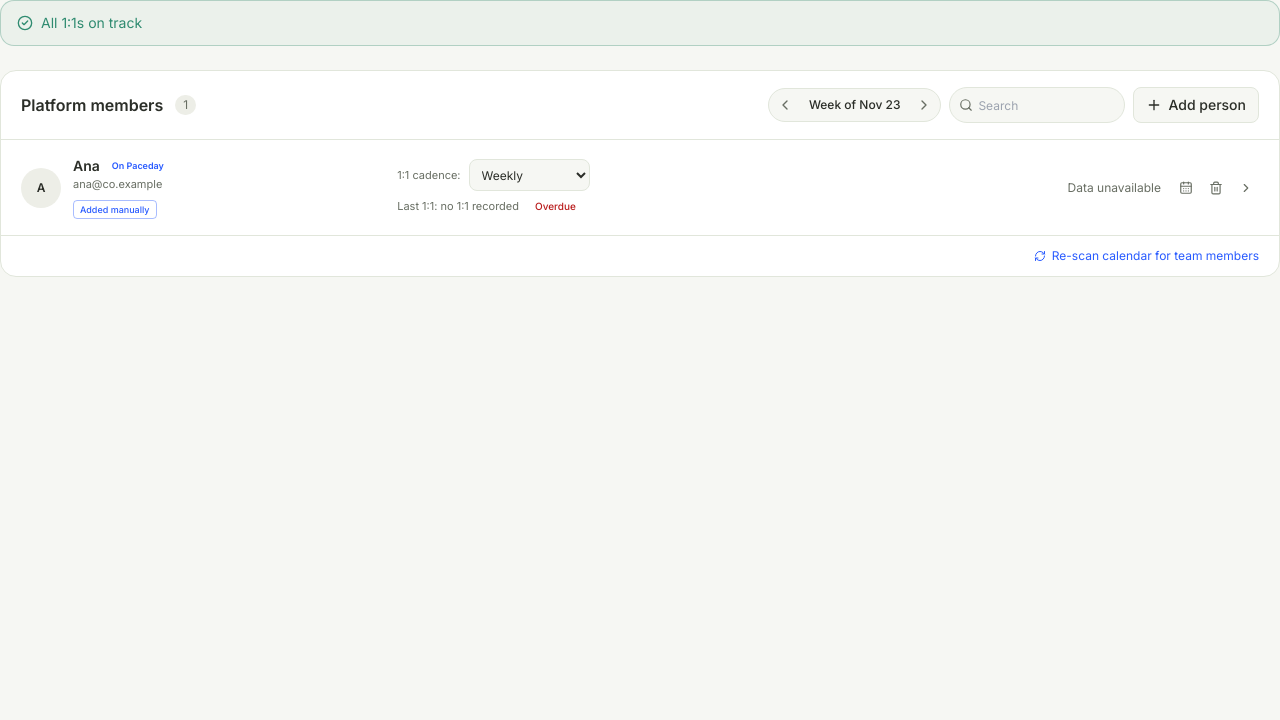
PAC-122 batch 6, manager tab › SF-059: claims no scan state it does not know, then shows the scan answer's time
Check: the text "last scan" is not shown
Step 1. Click the button "Re-scan calendar for team members" → (1146, 256), box [1034, 248, 1259, 264]
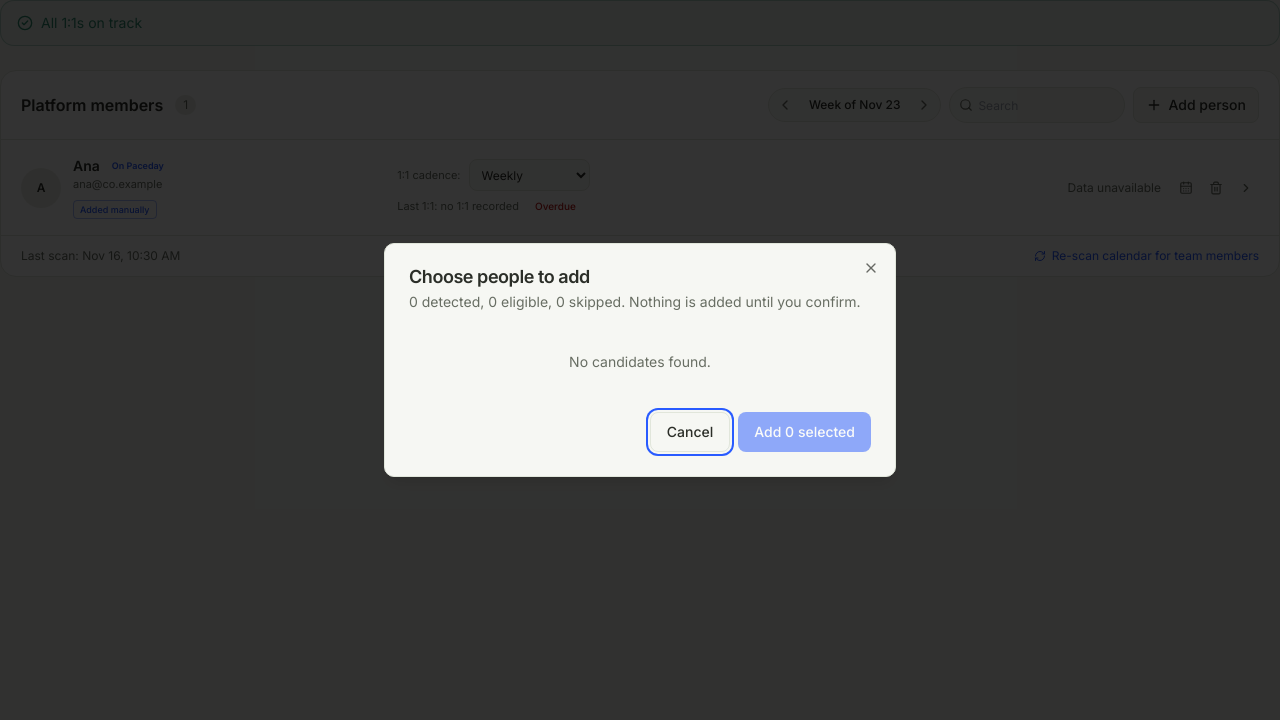
Check: the text "Last scan: Nov 16, 10:30 AM" is shown, box [21, 248, 180, 264]
